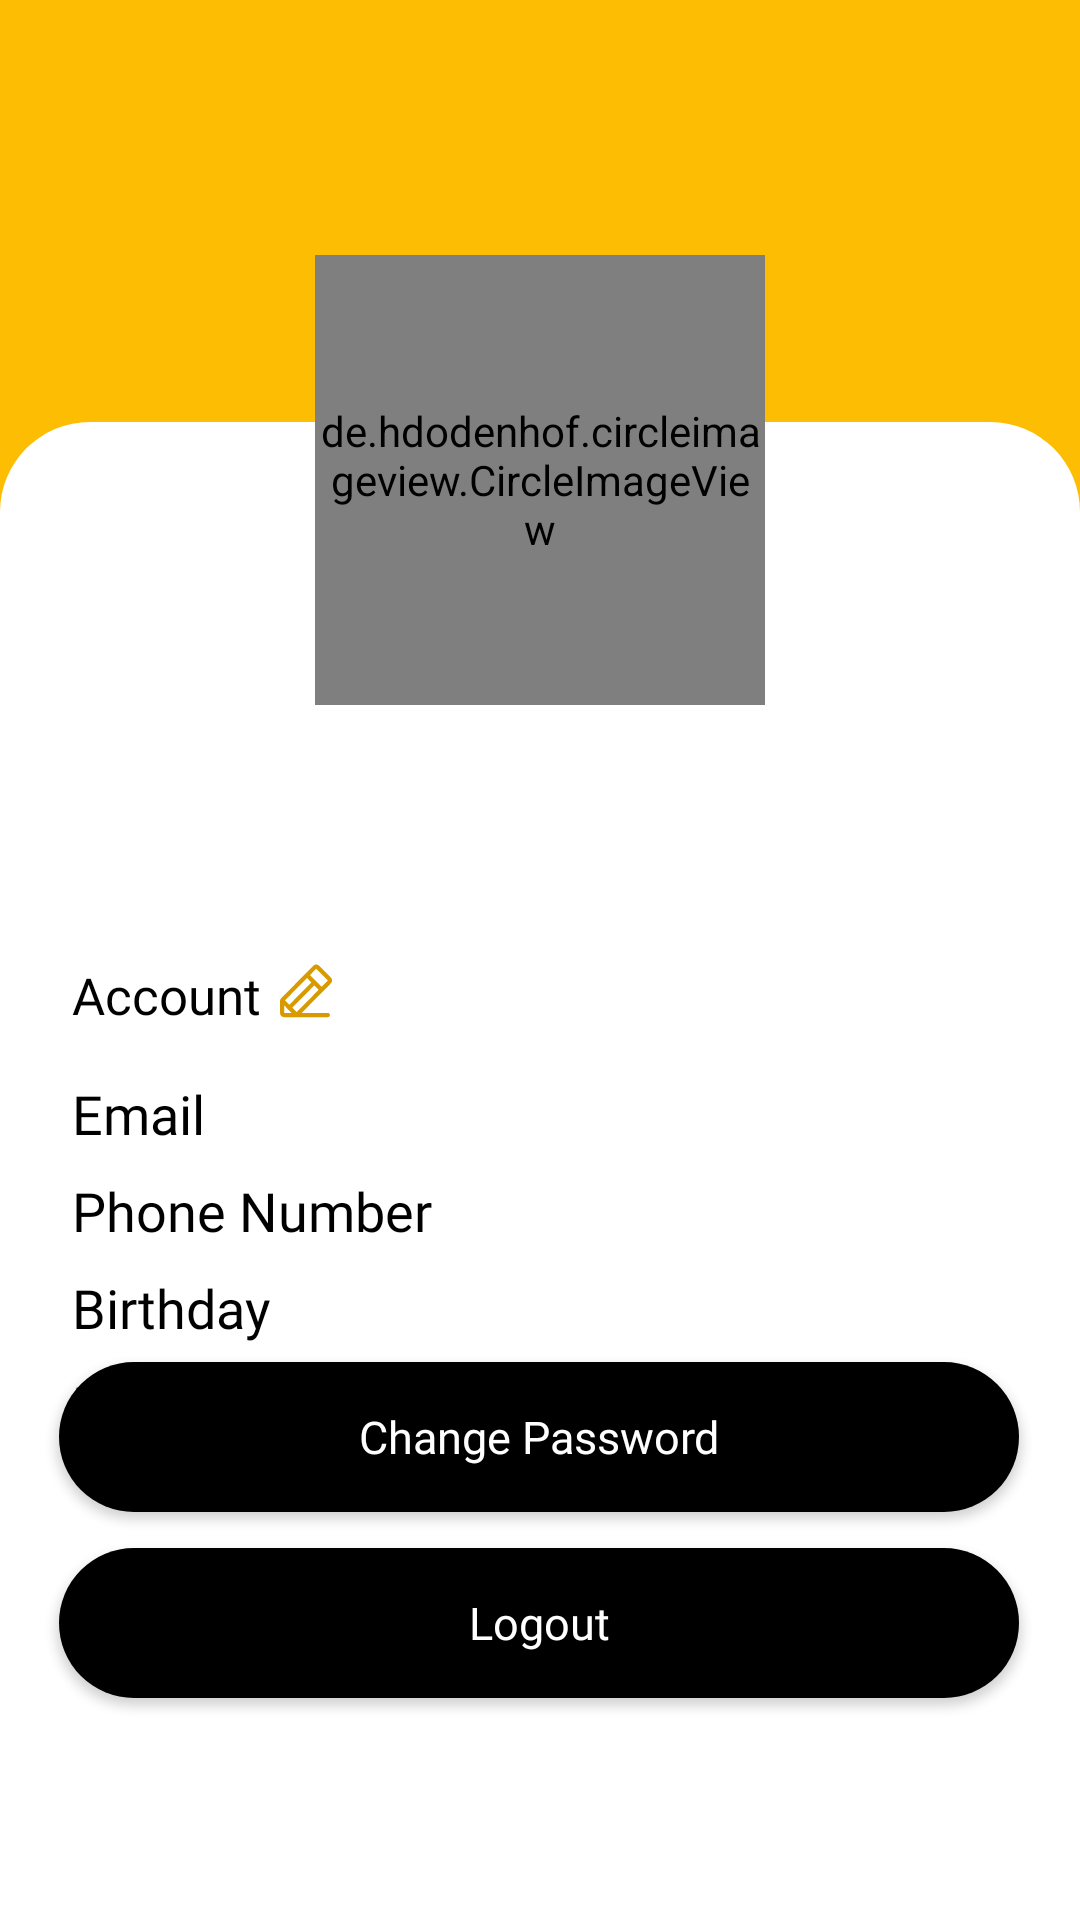

Named icons in this screenshot (1080px×1920px) and their bounding boxes, [x1=x1, y1=y1, x2=x2, y2=y2]:
pencil: [x1=280, y1=964, x2=332, y2=1018]
